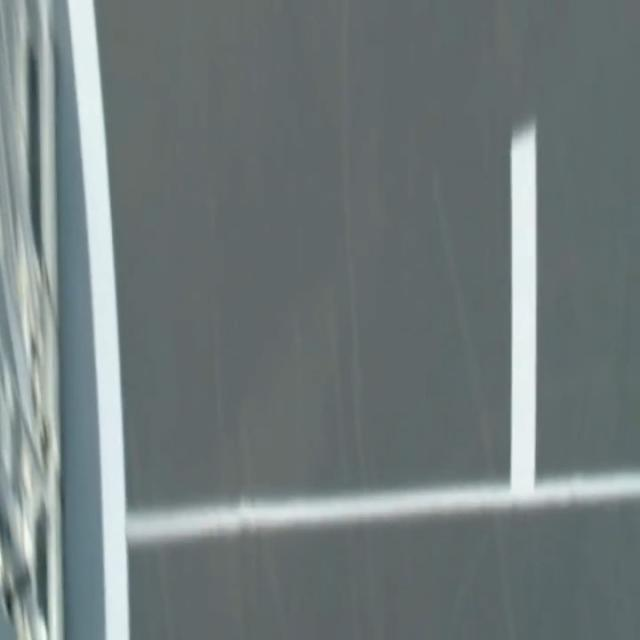center: (509, 123, 535, 493)
left: (68, 0, 129, 639)
